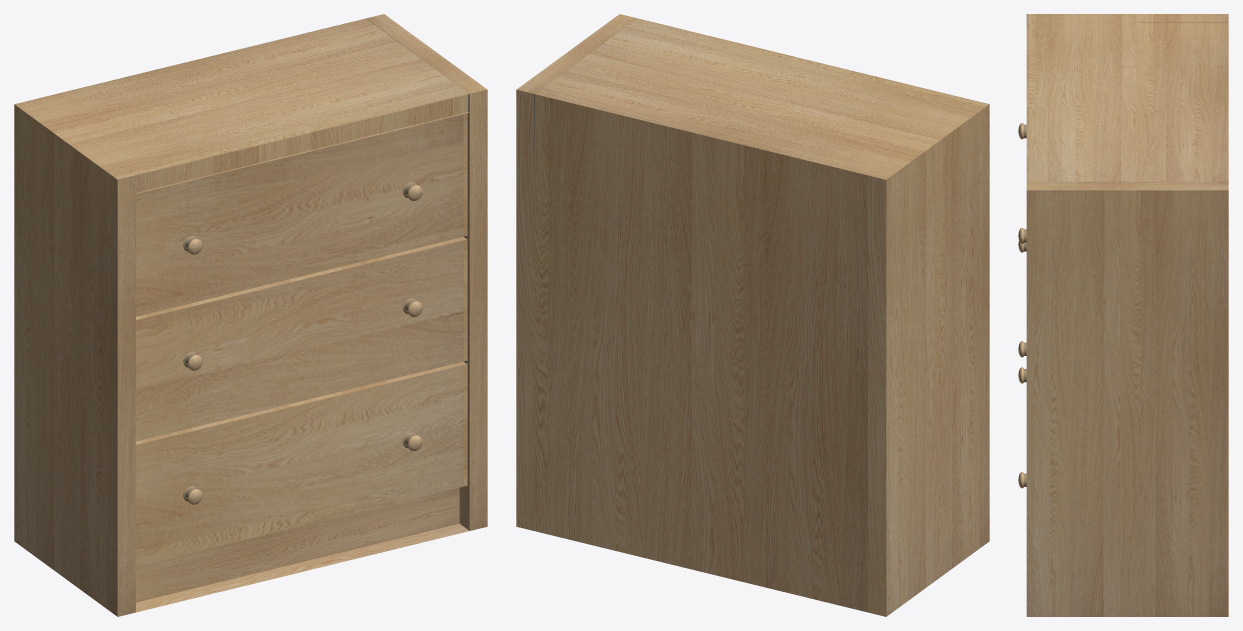
The picture shows the model from 3 angles, left to right: view 1: azimuth 30°, elevation 25°; view 2: azimuth 150°, elevation 25°; view 3: azimuth 270°, elevation 25°; orthographic projection. The views are drawn at different scales.
Visible parts, largest first — view 1: Plane, Plane Check; view 2: Plane; view 3: Plane.
Part boxes in pixels (x1,y1,x2,y2): Plane: (14,14,487,616); Plane Check: (136,523,468,612); Plane: (516,14,989,616); Plane: (1026,14,1228,616).
Size of the model in its own units: 62 by 70.01 by 31.24.
